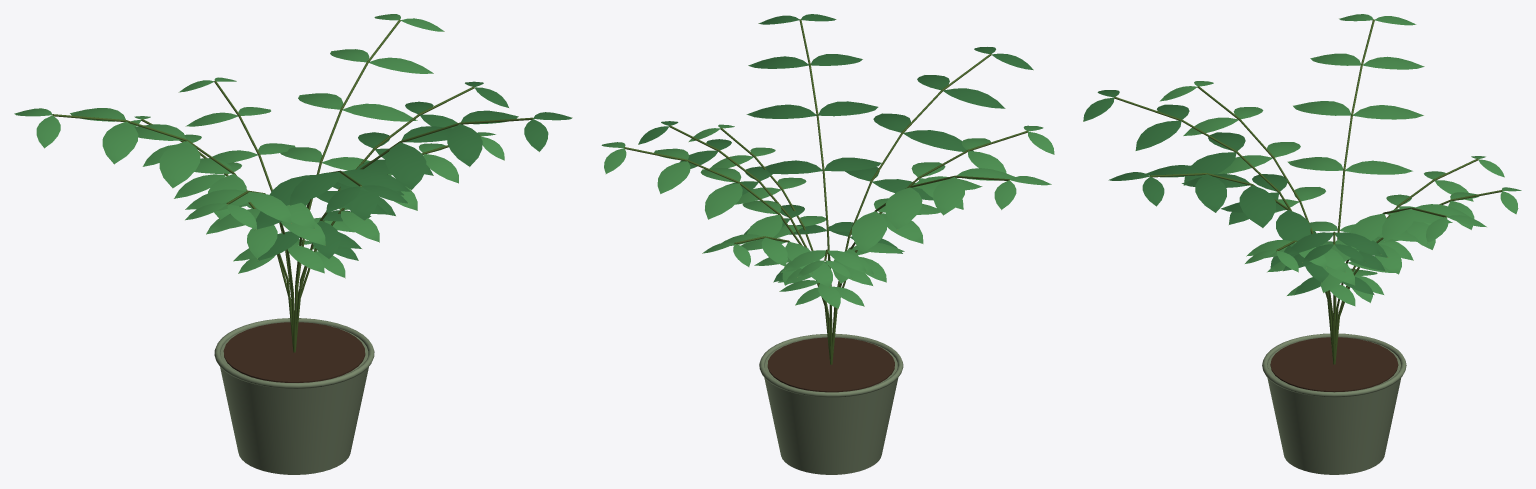
Rendered from window-palm.glb.
3 views of the same model, side by side, from view 1: azimuth 30°, elevation 25°; view 2: azimuth 150°, elevation 25°; view 3: azimuth 270°, elevation 25° (orthographic). The views are drawn at different scales.
Parts seen in each view (by area): view 1: part::window-palm/thrown-ceramic-planter-001, part::window-palm/dark-potting-mix-001, part::window-palm/planter-rounded-lip-001, part::window-palm/palm-leaflet-045, part::window-palm/palm-leaflet-036, part::window-palm/palm-leaflet-038, part::window-palm/palm-leaflet-047, part::window-palm/palm-leaflet-068, part::window-palm/palm-leaflet-056, part::window-palm/palm-leaflet-067, part::window-palm/palm-leaflet-017, part::window-palm/palm-leaflet-041 (+10 smaller); view 2: part::window-palm/thrown-ceramic-planter-001, part::window-palm/dark-potting-mix-001, part::window-palm/planter-rounded-lip-001, part::window-palm/palm-leaflet-046, part::window-palm/palm-leaflet-044, part::window-palm/palm-leaflet-055, part::window-palm/palm-leaflet-048, part::window-palm/palm-leaflet-066, part::window-palm/palm-leaflet-035, part::window-palm/palm-leaflet-057, part::window-palm/palm-leaflet-068, part::window-palm/palm-leaflet-036 (+10 smaller); view 3: part::window-palm/thrown-ceramic-planter-001, part::window-palm/dark-potting-mix-001, part::window-palm/planter-rounded-lip-001, part::window-palm/palm-leaflet-035, part::window-palm/palm-leaflet-037, part::window-palm/palm-leaflet-033, part::window-palm/palm-leaflet-067, part::window-palm/palm-leaflet-046, part::window-palm/palm-leaflet-065, part::window-palm/palm-leaflet-058, part::window-palm/palm-leaflet-044, part::window-palm/palm-leaflet-045 (+11 smaller).
Boxes of the visible parts, x1,y1,x2,y2 form: part::window-palm/thrown-ceramic-planter-001: (220, 324, 368, 474); part::window-palm/dark-potting-mix-001: (223, 322, 365, 382); part::window-palm/planter-rounded-lip-001: (214, 318, 374, 388); part::window-palm/palm-leaflet-045: (159, 141, 200, 187); part::window-palm/palm-leaflet-036: (385, 142, 426, 189); part::window-palm/palm-leaflet-038: (447, 124, 482, 166); part::window-palm/palm-leaflet-047: (102, 121, 138, 163); part::window-palm/palm-leaflet-068: (289, 172, 340, 205); part::window-palm/palm-leaflet-056: (342, 103, 416, 121); part::window-palm/palm-leaflet-067: (343, 169, 410, 191); part::window-palm/palm-leaflet-017: (248, 192, 291, 223); part::window-palm/palm-leaflet-041: (247, 225, 277, 258); part::window-palm/thrown-ceramic-planter-001: (764, 338, 898, 474); part::window-palm/dark-potting-mix-001: (767, 337, 894, 392); part::window-palm/planter-rounded-lip-001: (759, 333, 903, 397); part::window-palm/palm-leaflet-046: (885, 187, 922, 229); part::window-palm/palm-leaflet-044: (852, 211, 886, 252); part::window-palm/palm-leaflet-055: (705, 183, 742, 219); part::window-palm/palm-leaflet-048: (933, 177, 965, 215); part::window-palm/palm-leaflet-066: (903, 130, 973, 151); part::window-palm/palm-leaflet-035: (747, 104, 816, 118); part::window-palm/palm-leaflet-057: (657, 161, 690, 193); part::window-palm/palm-leaflet-068: (943, 88, 1004, 108); part::window-palm/palm-leaflet-036: (818, 101, 877, 116); part::window-palm/thrown-ceramic-planter-001: (1267, 340, 1400, 474); part::window-palm/dark-potting-mix-001: (1270, 337, 1398, 392); part::window-palm/planter-rounded-lip-001: (1262, 333, 1406, 397); part::window-palm/palm-leaflet-035: (1239, 185, 1275, 227); part::window-palm/palm-leaflet-037: (1195, 174, 1226, 212); part::window-palm/palm-leaflet-033: (1276, 210, 1310, 246); part::window-palm/palm-leaflet-067: (1135, 120, 1181, 150); part::window-palm/palm-leaflet-046: (1353, 105, 1423, 119); part::window-palm/palm-leaflet-065: (1184, 152, 1236, 185); part::window-palm/palm-leaflet-058: (1382, 208, 1414, 241); part::window-palm/palm-leaflet-044: (1345, 160, 1412, 174); part::window-palm/palm-leaflet-045: (1293, 101, 1350, 115).
Size of the model in its own units: 1.69 by 1.34 by 1.58.
